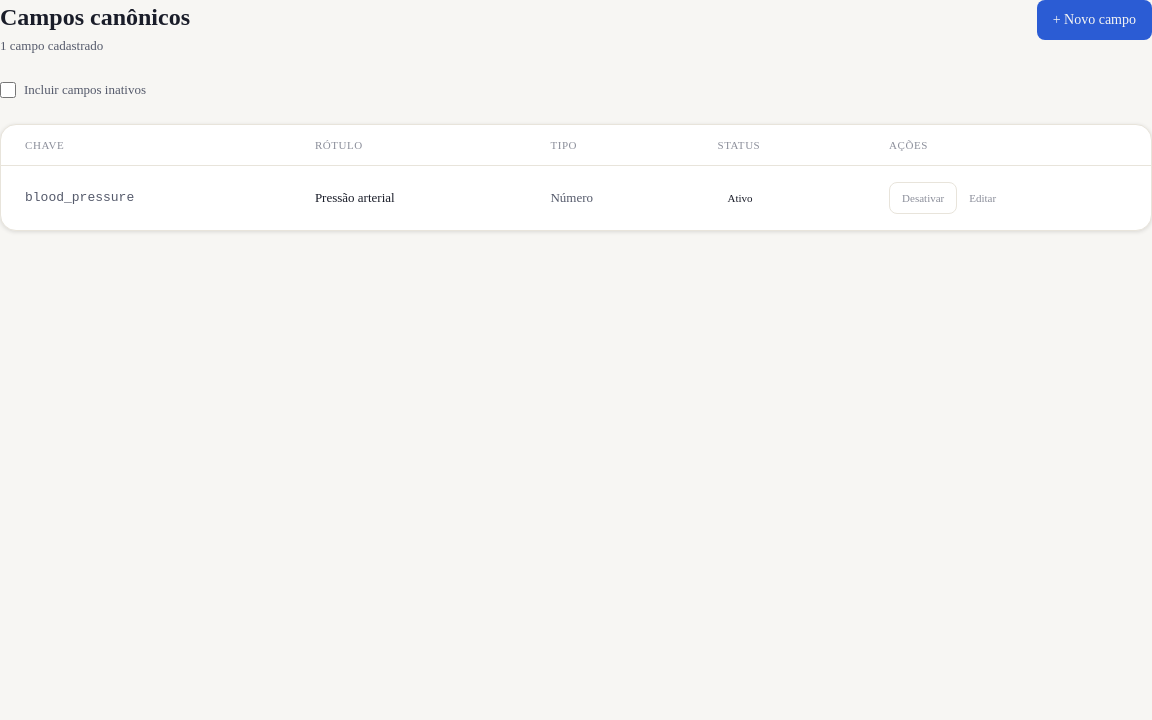
Test: CanonicalFieldList (integration) › shows error message and closes dialog when toggle fails
Expected: the table with test id "canonical-field-list-table" is shown, [1,125,1151,230]
What coordinates should you click on to do the following:
click the button with test id "canonical-field-toggle-button-uuid-1"
I would click on:
 (923, 198)
Its box is [889,182,957,214].
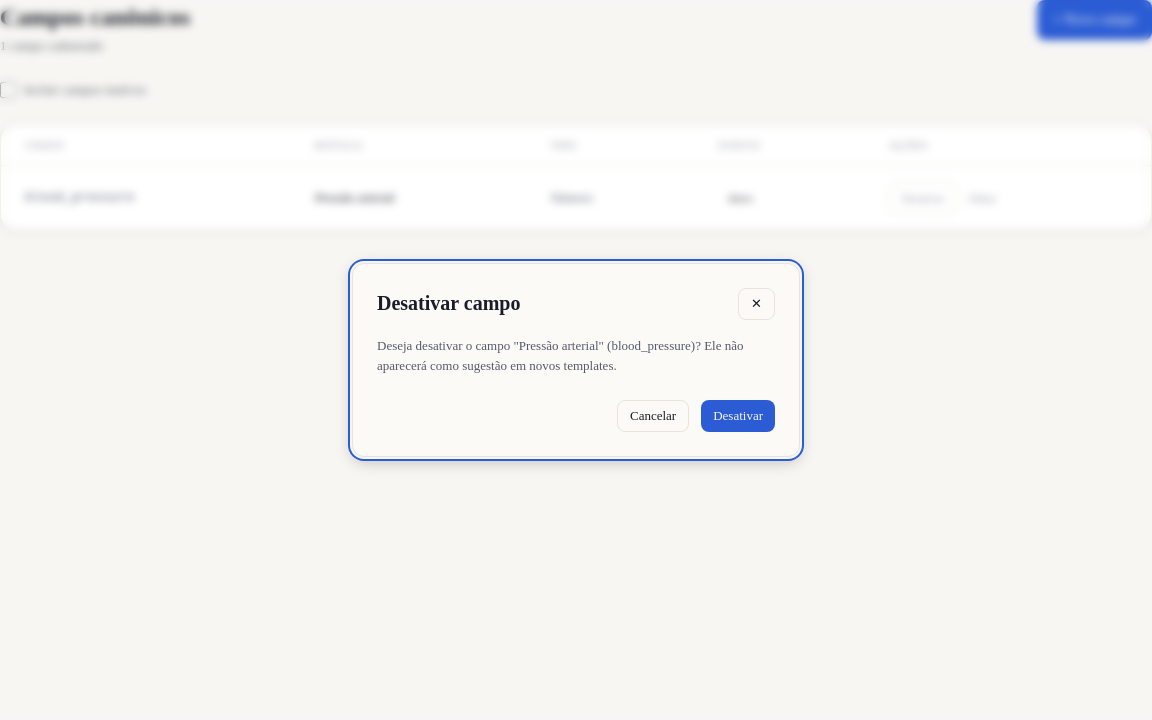
What coordinates should you click on to do the following:
click the button with test id "canonical-field-toggle-dialog-confirm"
I would click on:
 (738, 416)
Its box is [701,400,775,432].
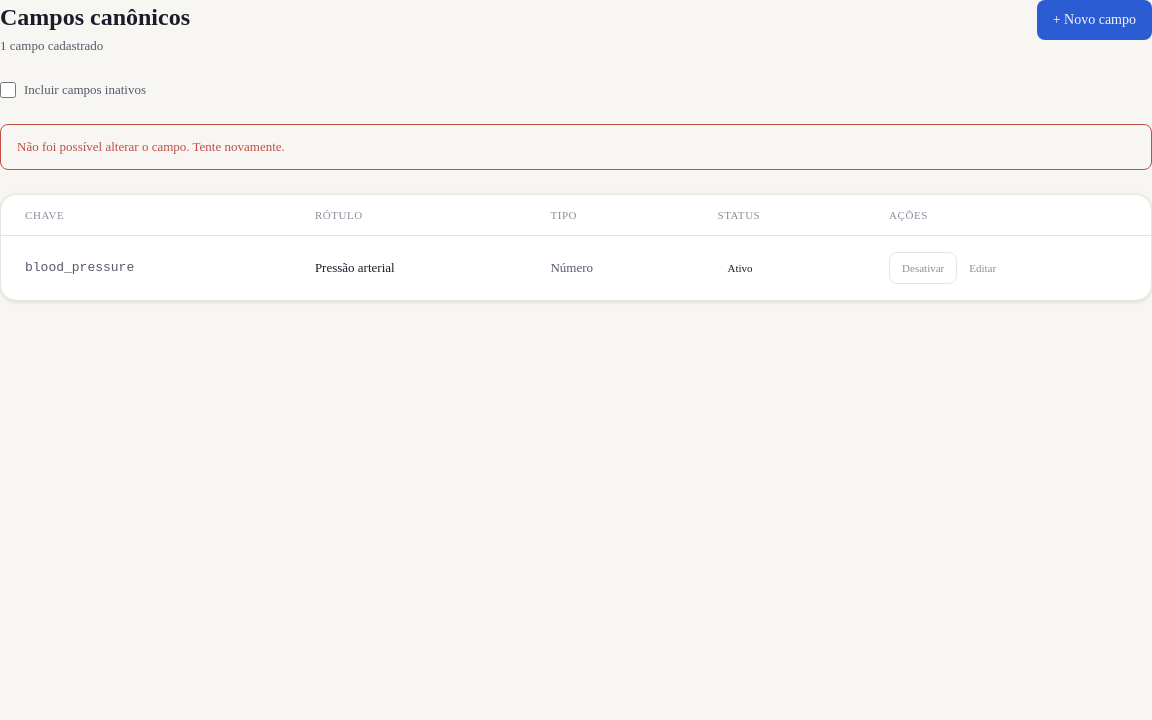
Now the button with test id "canonical-field-toggle-dialog-confirm" is gone
Now the message "Não foi possível alterar o campo. Tente novamente." is shown, box [0,124,1151,170]
